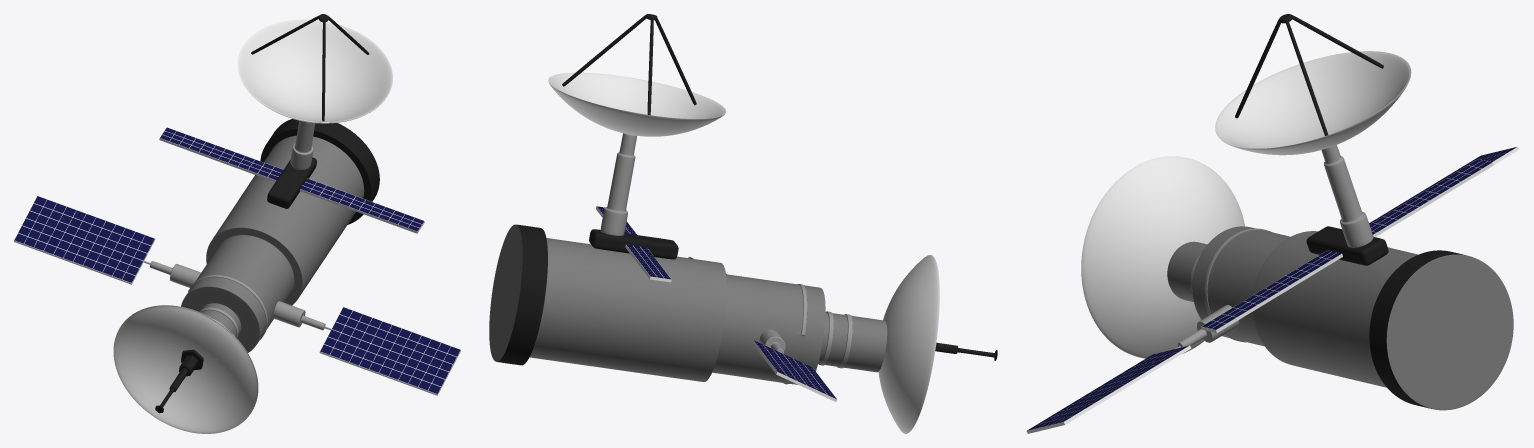
The model's file is satellite.glb.
3 renders of one model, left to right at view 1: azimuth 30°, elevation 25°; view 2: azimuth 150°, elevation 25°; view 3: azimuth 270°, elevation 25°, orthographic. The views are drawn at different scales.
Parts seen in each view (by area): view 1: satellite, Sphere.008, Cube.023, Sphere.009, Cube.024, Cylinder.032, Cube.025, Cylinder.030, Cylinder.031, Cylinder.029; view 2: satellite, Sphere.008, Sphere.009, Cylinder.031, Cube.023, Cube.025, Cylinder.030, Cube.024; view 3: satellite, Sphere.008, Sphere.009, Cube.024, Cube.023, Cylinder.031, Cube.025, Cylinder.030, Cylinder.032.
Boxes of the visible parts, x1=… form: satellite: x1=181, y1=118, x2=379, y2=352; Sphere.008: x1=113, y1=305, x2=258, y2=433; Cube.023: x1=14, y1=196, x2=460, y2=395; Sphere.009: x1=237, y1=19, x2=392, y2=123; Cube.024: x1=159, y1=127, x2=424, y2=233; Cylinder.032: x1=143, y1=261, x2=331, y2=330; Cube.025: x1=267, y1=157, x2=316, y2=208; Cylinder.030: x1=251, y1=14, x2=369, y2=121; Cylinder.031: x1=290, y1=120, x2=315, y2=169; Cylinder.029: x1=155, y1=349, x2=203, y2=413; satellite: x1=489, y1=224, x2=887, y2=384; Sphere.008: x1=878, y1=255, x2=939, y2=433; Sphere.009: x1=548, y1=72, x2=726, y2=136; Cylinder.031: x1=600, y1=133, x2=636, y2=235; Cube.023: x1=688, y1=256, x2=837, y2=401; Cube.025: x1=589, y1=229, x2=678, y2=259; Cylinder.030: x1=562, y1=14, x2=696, y2=115; Cube.024: x1=596, y1=206, x2=671, y2=282; satellite: x1=1167, y1=226, x2=1513, y2=410; Sphere.008: x1=1081, y1=156, x2=1244, y2=358; Sphere.009: x1=1215, y1=51, x2=1411, y2=155; Cube.024: x1=1201, y1=159, x2=1493, y2=332; Cube.023: x1=1026, y1=146, x2=1519, y2=433; Cylinder.031: x1=1321, y1=145, x2=1373, y2=247; Cube.025: x1=1306, y1=226, x2=1388, y2=265; Cylinder.030: x1=1235, y1=14, x2=1383, y2=135; Cylinder.032: x1=1175, y1=305, x2=1239, y2=348.
Bounding box in the file's own units: 3.69 × 3.66 × 3.63.
